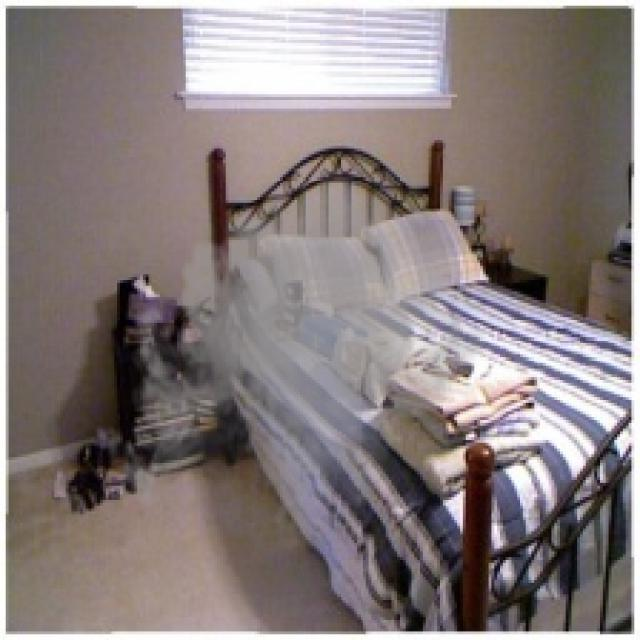smoke: (111, 154, 488, 577)
